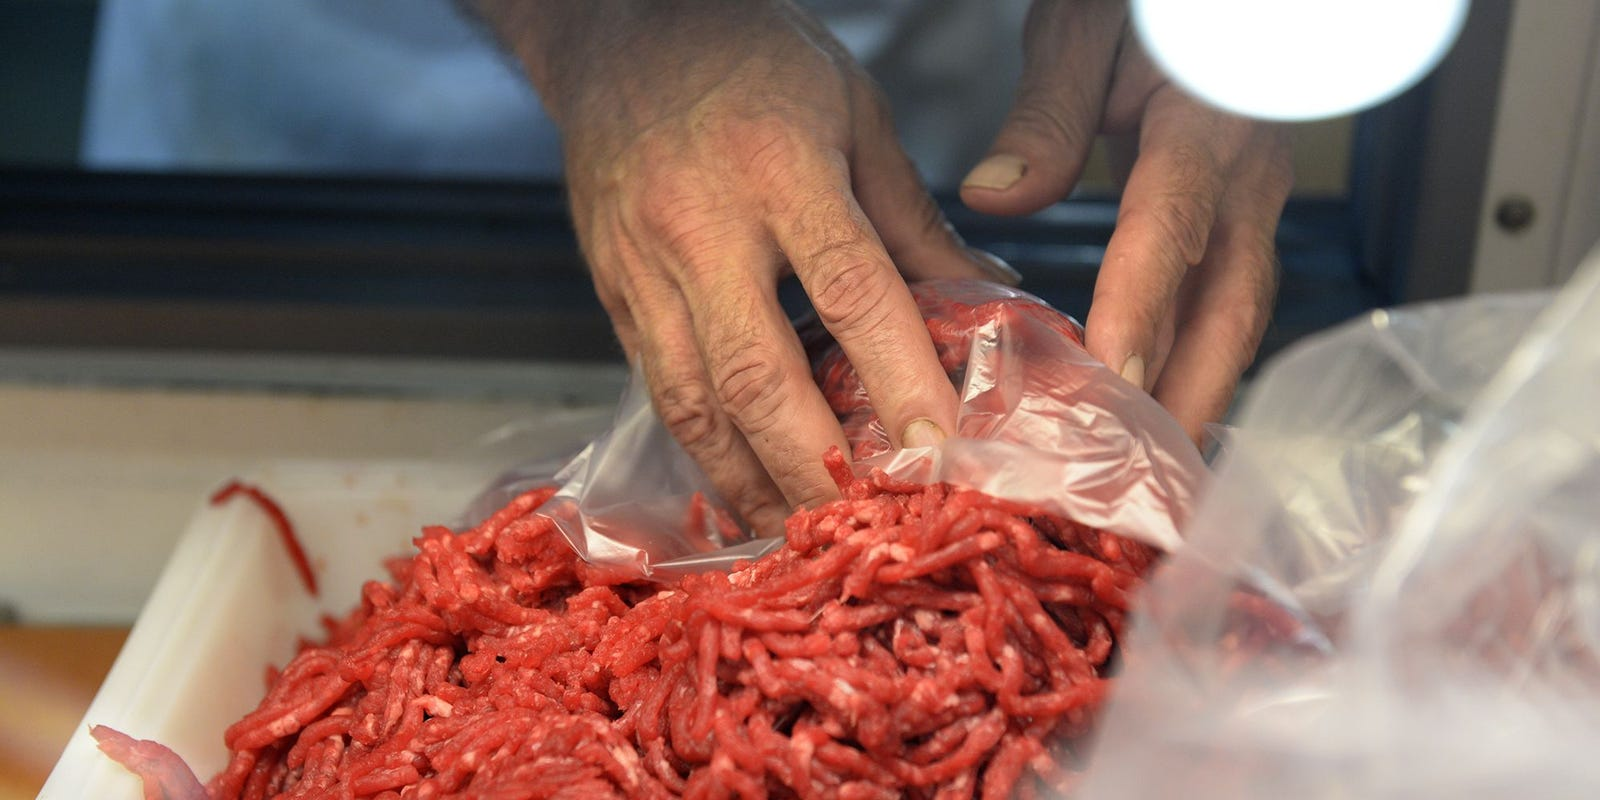ground_beef: (272, 386, 1100, 800)
